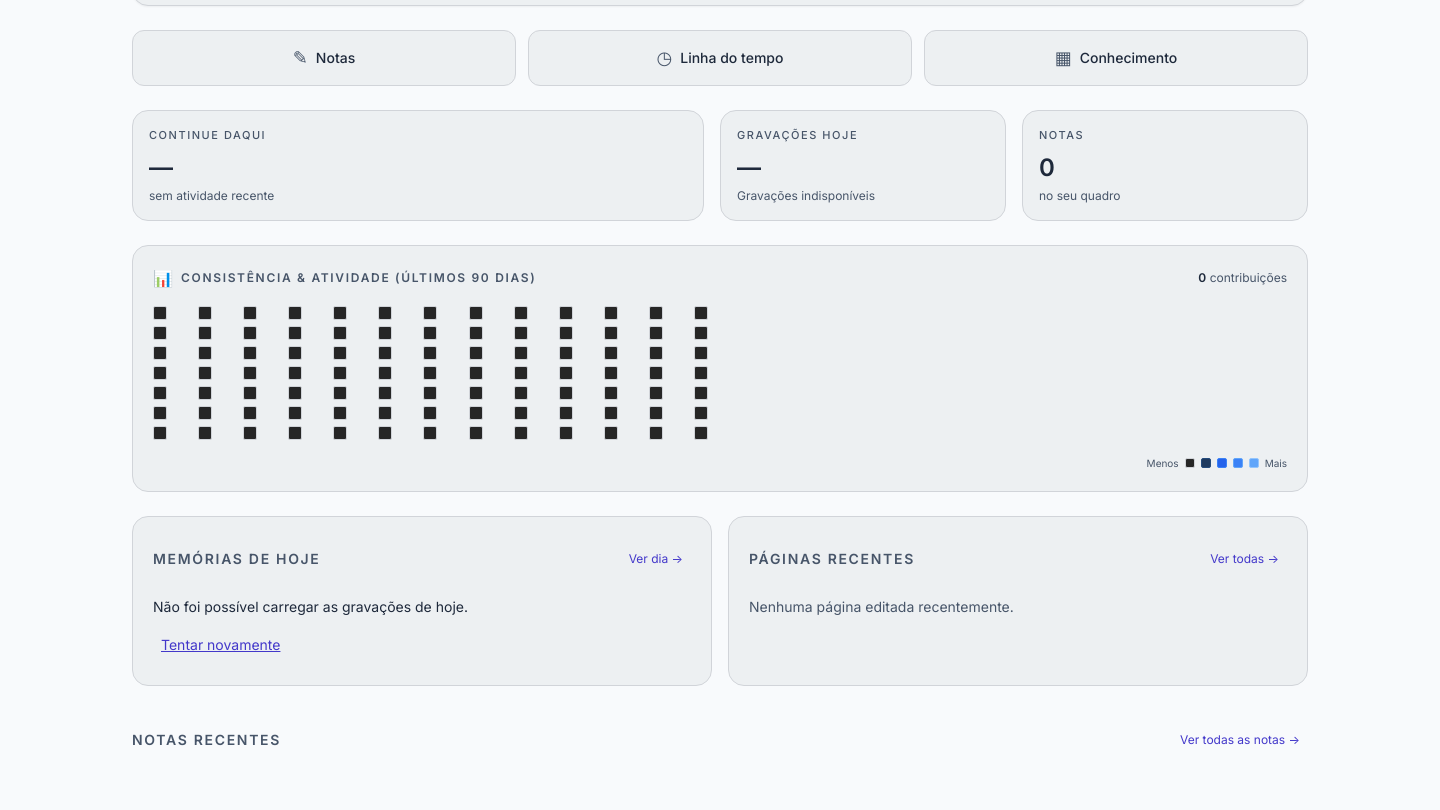
Test: dashboard loading and recovery › shows a recording load failure and recovers through a dedicated retry
(page scrolled)
Check: the text "Não foi possível carregar as gravações de hoje." is shown, box [153,598,468,614]
Check: the text "Nenhuma gravação ainda." is not shown
Click the button with aria-label "Tentar carregar gravações novamente" at (221, 644), box [153,624,288,664]
(page scrolled)
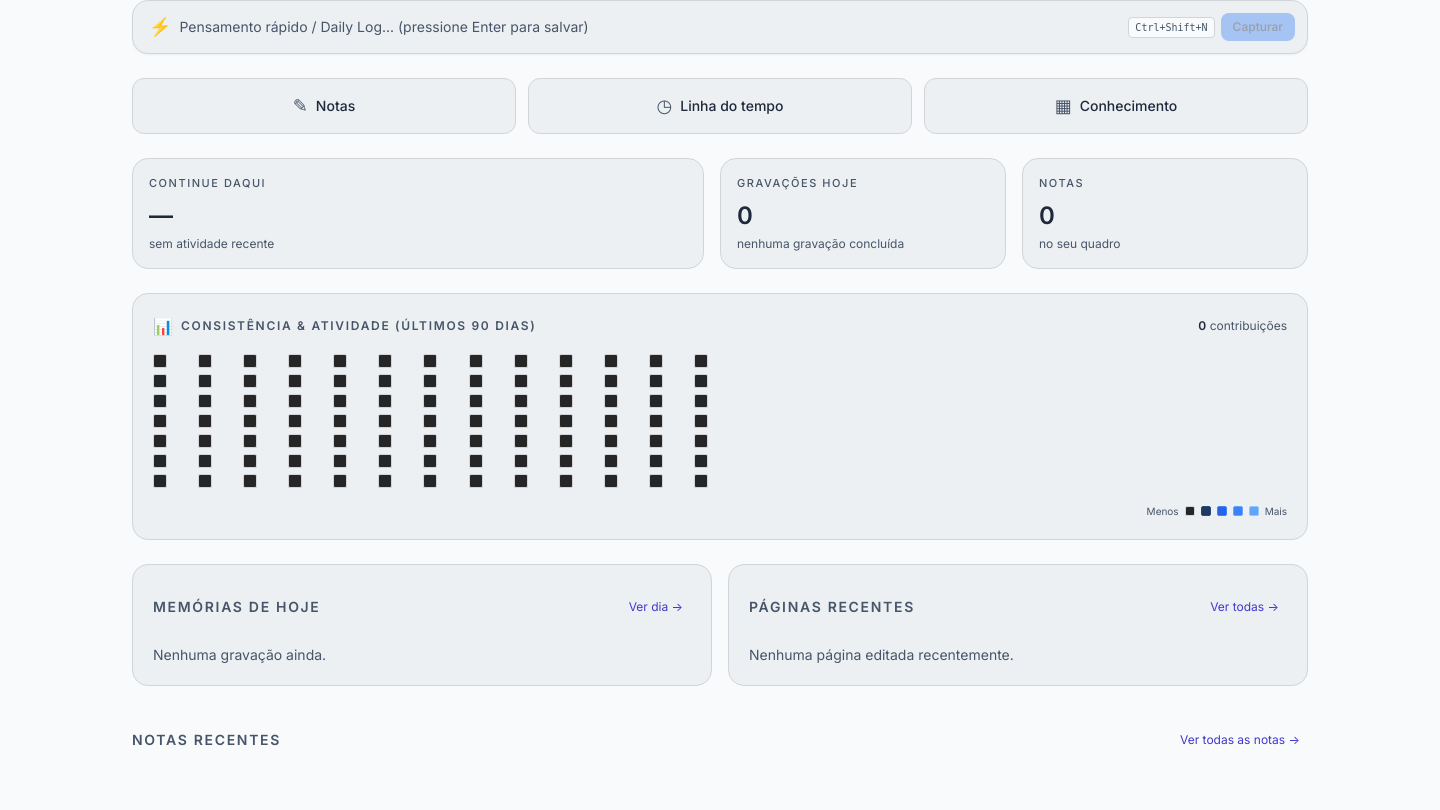
Check: the text "Nenhuma gravação ainda." is shown, box [153,646,326,662]
Check: the button "Gravações indisponíveis" is gone
